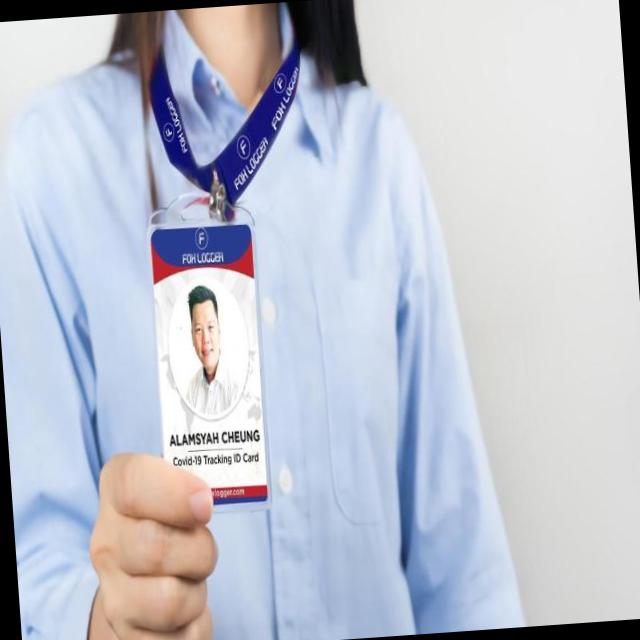id_card: (123, 22, 344, 503)
